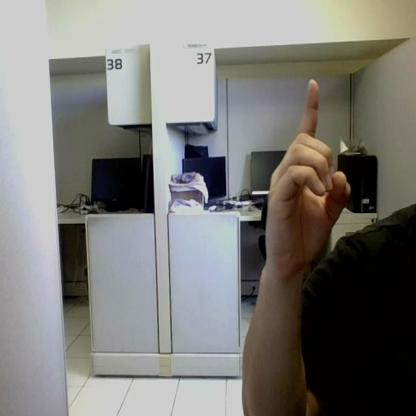D: (269, 80, 350, 263)
